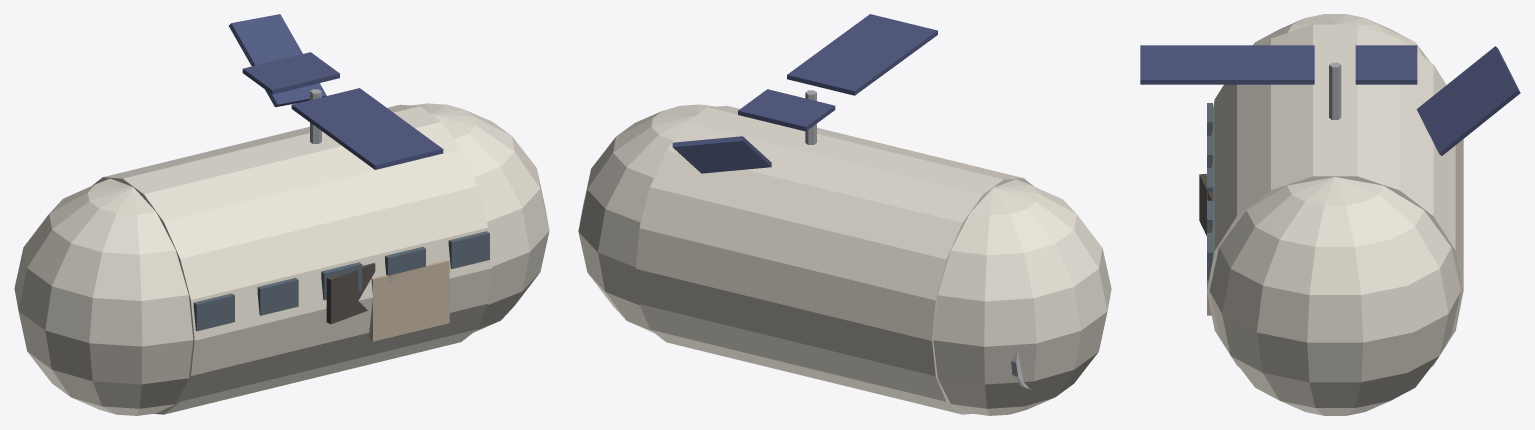
Rendered from habitat_pod_derelict.glb.
The picture shows the model from 3 angles, left to right: view 1: azimuth 30°, elevation 25°; view 2: azimuth 150°, elevation 25°; view 3: azimuth 270°, elevation 25°; orthographic projection. The views are drawn at different scales.
Parts seen in each view (by area): view 1: hull_shell, hull_domea, hull_domef, wing_s, breach_patch, wing_p_snap, wing_p_stub, scorch, win1, win4, win0, win3 (+1 smaller); view 2: hull_shell, hull_domea, hull_domef, wing_s, wing_p_snap, wing_p_stub; view 3: hull_domef, hull_shell, wing_s, wing_p_snap, wing_p_stub, hull_domea, mast, scorch.
Boxes of the visible parts, box(x1,y1,x2,y2) form: hull_shell: box(92, 104, 491, 414); hull_domea: box(14, 178, 193, 415); hull_domef: box(411, 103, 549, 332); wing_s: box(291, 88, 443, 169); breach_patch: box(369, 259, 449, 341); wing_p_snap: box(228, 14, 326, 107); wing_p_stub: box(242, 52, 339, 94); scorch: box(326, 263, 375, 324); win1: box(257, 277, 298, 315); win4: box(448, 231, 489, 268); win0: box(193, 293, 234, 331); win3: box(385, 246, 425, 283); hull_shell: box(635, 105, 1033, 414); hull_domea: box(933, 179, 1111, 415); hull_domef: box(578, 104, 715, 332); wing_s: box(787, 14, 937, 95); wing_p_snap: box(672, 136, 771, 173); wing_p_stub: box(738, 89, 835, 131); hull_domef: box(1209, 177, 1460, 415); hull_shell: box(1207, 24, 1463, 367); wing_s: box(1140, 45, 1314, 84); wing_p_snap: box(1416, 46, 1520, 155); wing_p_stub: box(1355, 45, 1417, 84); hull_domea: box(1253, 14, 1429, 61); mast: box(1329, 62, 1341, 119); scorch: box(1199, 173, 1213, 235).
Size of the model in its own units: 11.78 by 6.38 by 7.41.
